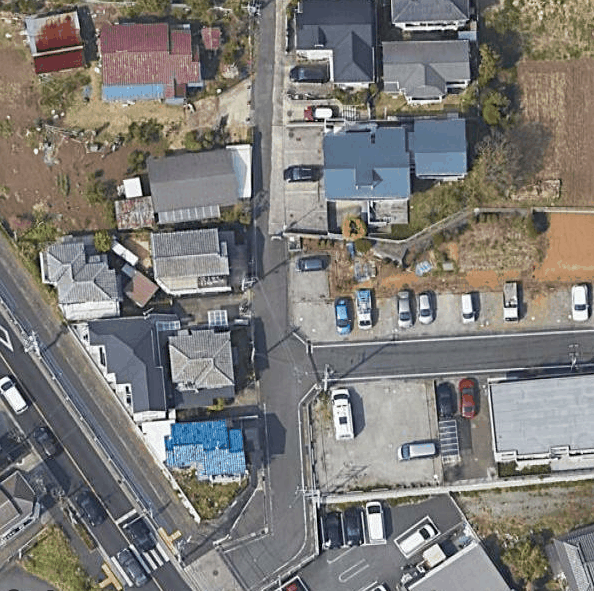flatroof: (485, 369, 592, 475)
